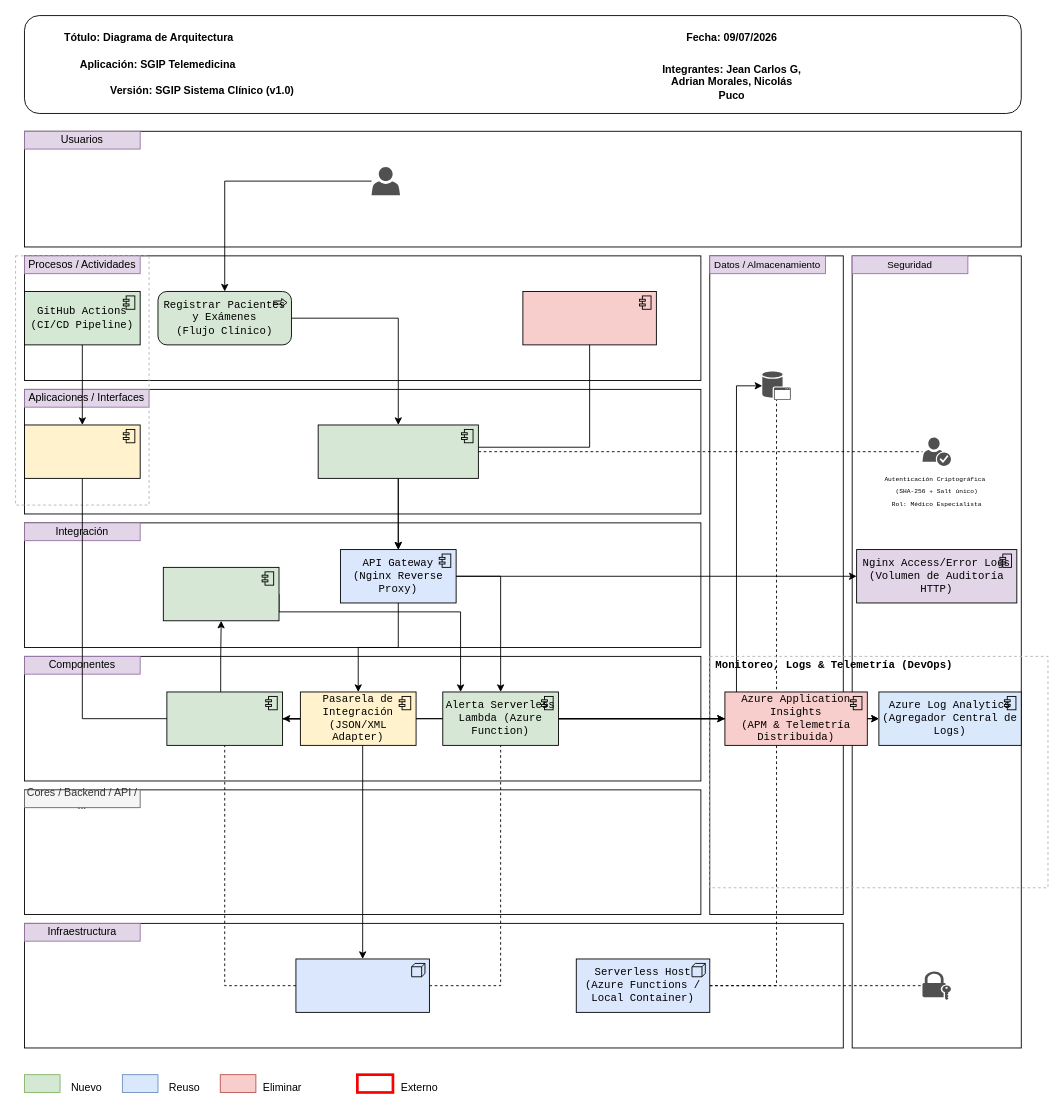
Image size: 1064x1117. Some labels were removed from this diagram. The centre of each missing label's shape, as x and y in pixels:
Azure Container Registry (ACR): the point at 82,451
Cola de Mensajería (RabbitMQ / Azure Service Bus): the point at 220,593
Contenedor Docker (Local) / Azure Container Apps: the point at 362,985
Laboratorio Clínico Externo (Envío de Exámenes JSON/XML): the point at 589,318
MySQL Database (Pacientes & Usuarios): the point at 776,385
Médicos / Personal de Salud (Portal Clínico Web): the point at 385,180
Portal Clínico de Pacientes (SGIP): the point at 397,451
Redis Cache (Local / Azure Cache for Redis) Rol: Historial de Alertas de Salud: the point at 936,985
Servicio de Pacientes (FastAPI - Python): the point at 224,718
